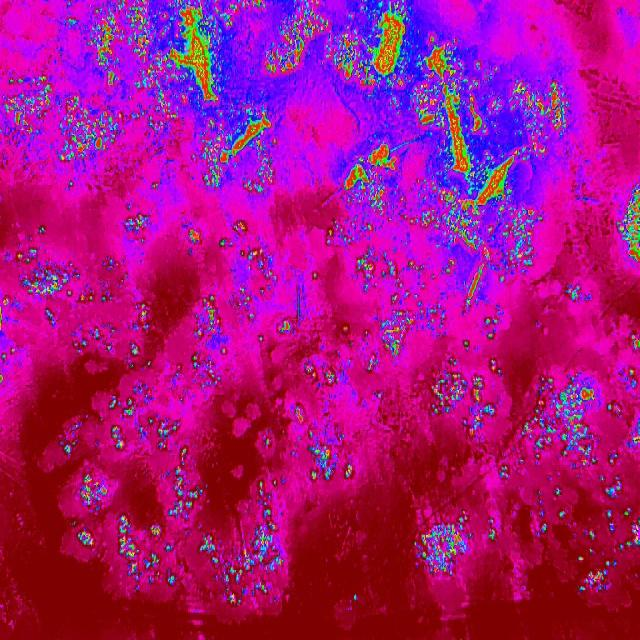fire: (283, 0, 570, 305), (60, 0, 284, 199), (487, 362, 640, 598), (54, 387, 204, 593), (0, 209, 158, 373), (182, 218, 296, 391), (364, 307, 506, 442), (257, 361, 362, 490), (0, 74, 127, 178), (198, 476, 292, 613), (404, 511, 501, 581), (616, 176, 640, 266), (562, 282, 596, 310), (626, 331, 640, 353), (348, 593, 360, 605)
